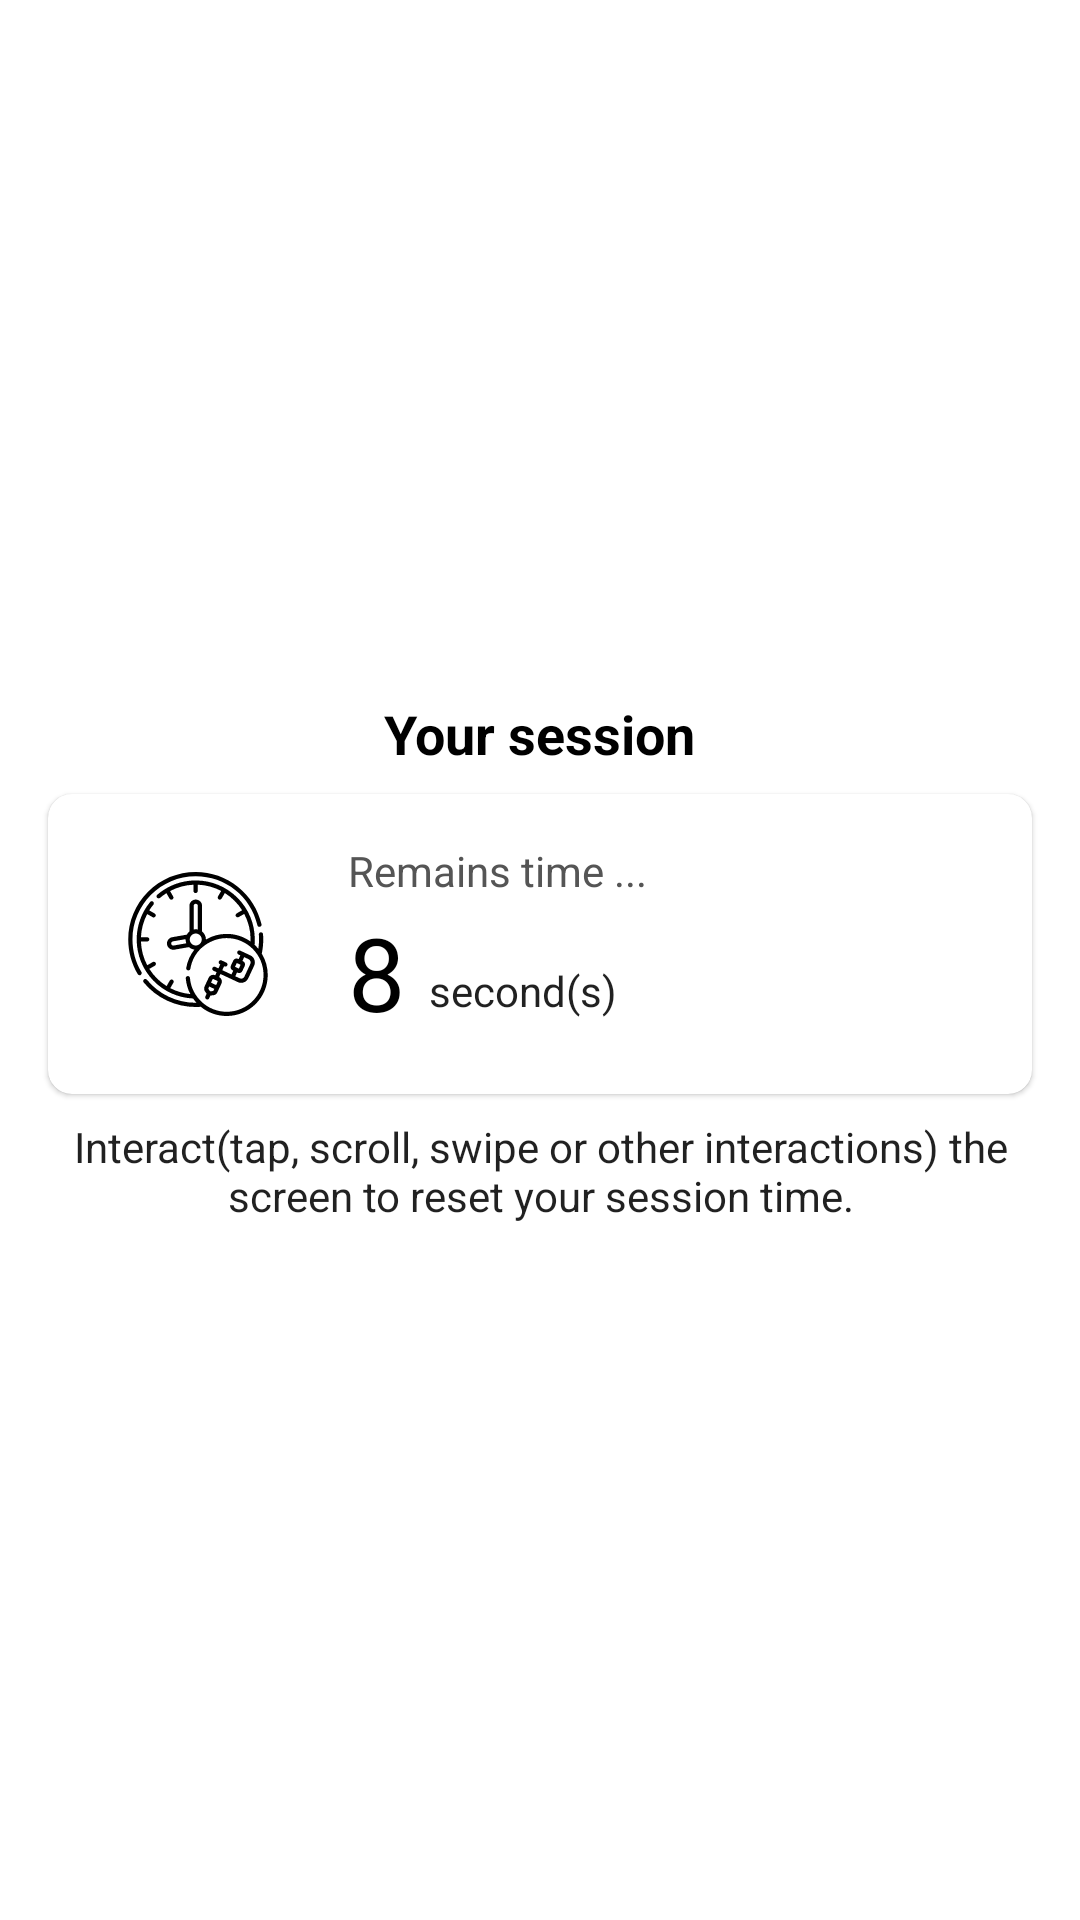

Locate icon controls on the screen. Image size 1080 × 1920, boxes as (x1, y1, x2, y2).
clock: (48, 811, 268, 1016)
